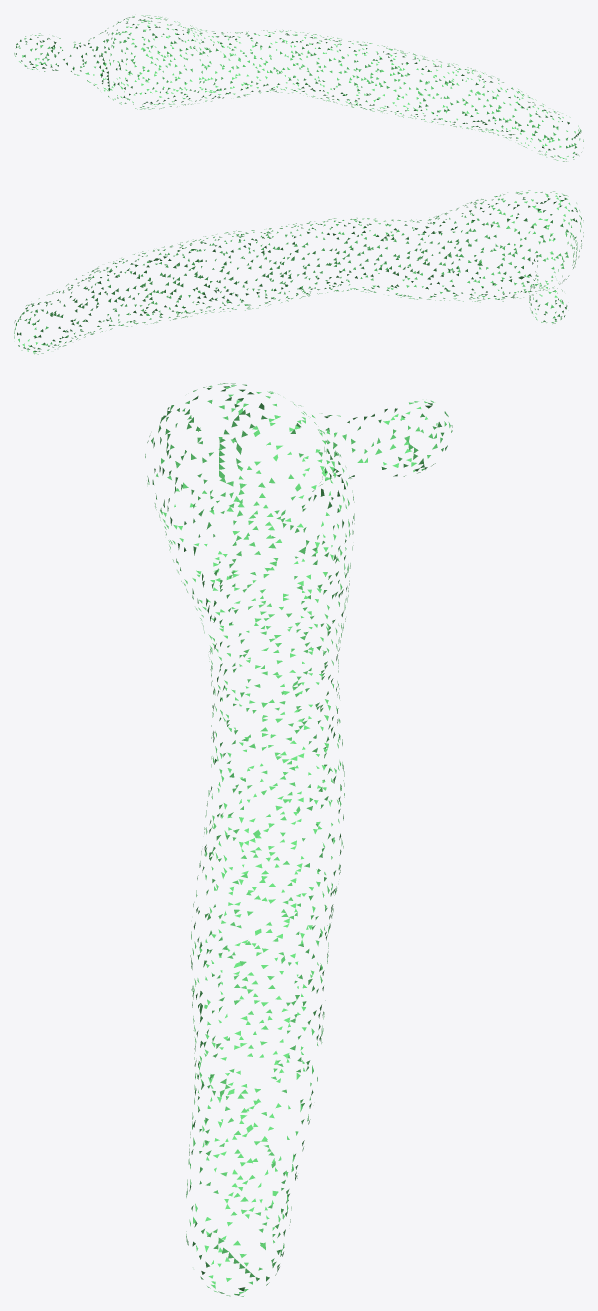
The model's file is morph_019.glb.
3 renders of one model, top to bottom at view 1: azimuth 30°, elevation 25°; view 2: azimuth 150°, elevation 25°; view 3: azimuth 270°, elevation 25°, orthographic. The views are drawn at different scales.
Bounding box in the file's own units: 126 × 55.79 × 32.37.
